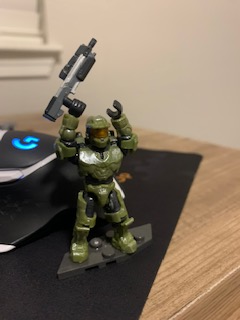chief: (53, 93, 144, 261)
rifle: (44, 37, 99, 124)
spartan: (51, 91, 142, 259)
up: (54, 93, 141, 184)
